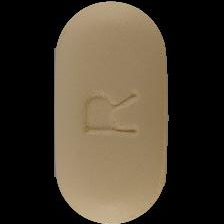68084-535: (0, 0, 224, 224)
